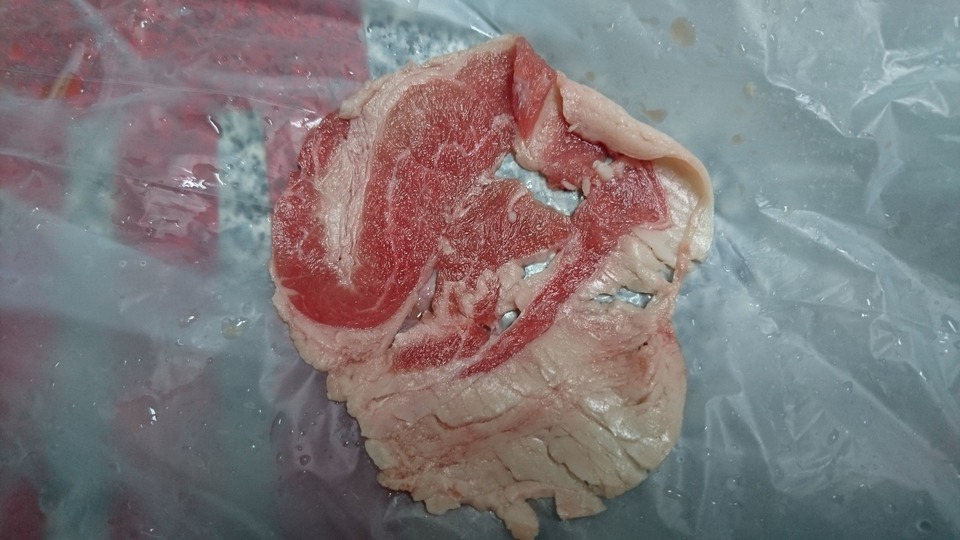restructured meat: (265, 35, 708, 540)
